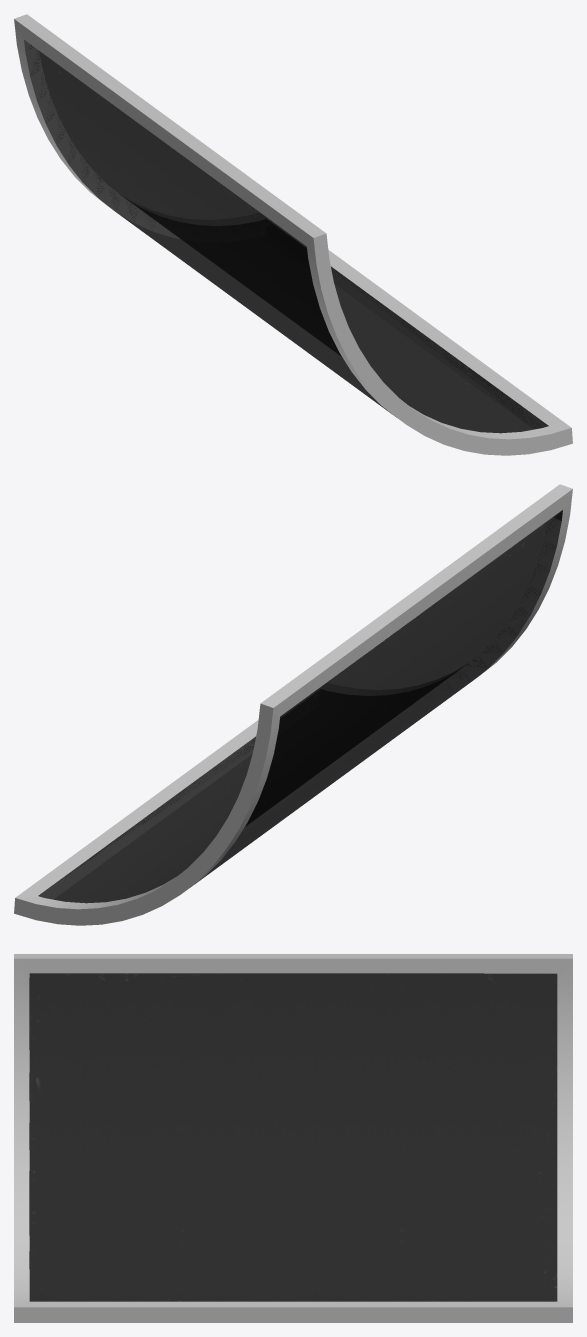
File: glass_2x2_quartertube.fbx
The picture shows the model from 3 angles, top to bottom: view 1: azimuth 30°, elevation 25°; view 2: azimuth 150°, elevation 25°; view 3: azimuth 270°, elevation 25°; orthographic projection. The views are drawn at different scales.
Visible parts, largest first — view 1: glass_2x2_quartertube; view 2: glass_2x2_quartertube; view 3: glass_2x2_quartertube.
Boxes of the visible parts, x1,y1,x2,y2 form: glass_2x2_quartertube: (14,14,572,455); glass_2x2_quartertube: (14,484,572,925); glass_2x2_quartertube: (14,954,572,1322).
Size of the model in its own units: 45 by 45 by 90.
